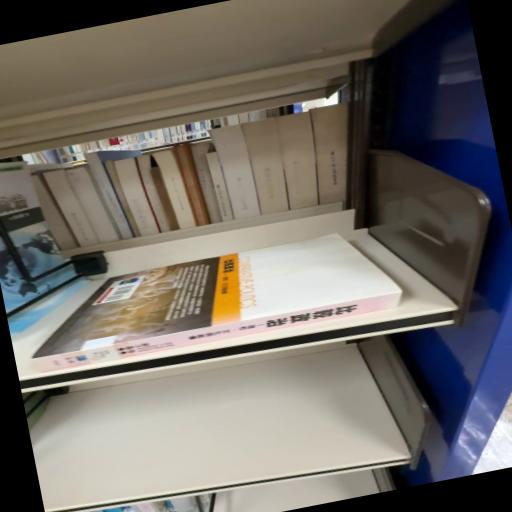flat: (33, 234, 403, 372)
